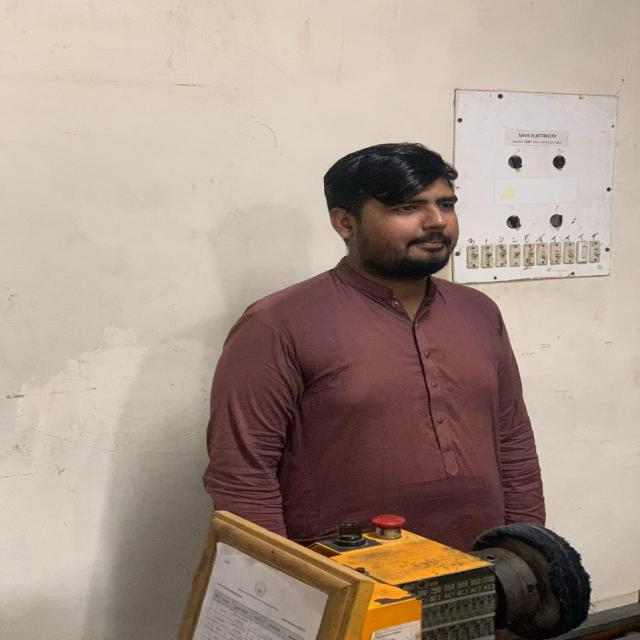dress: (202, 250, 550, 575)
